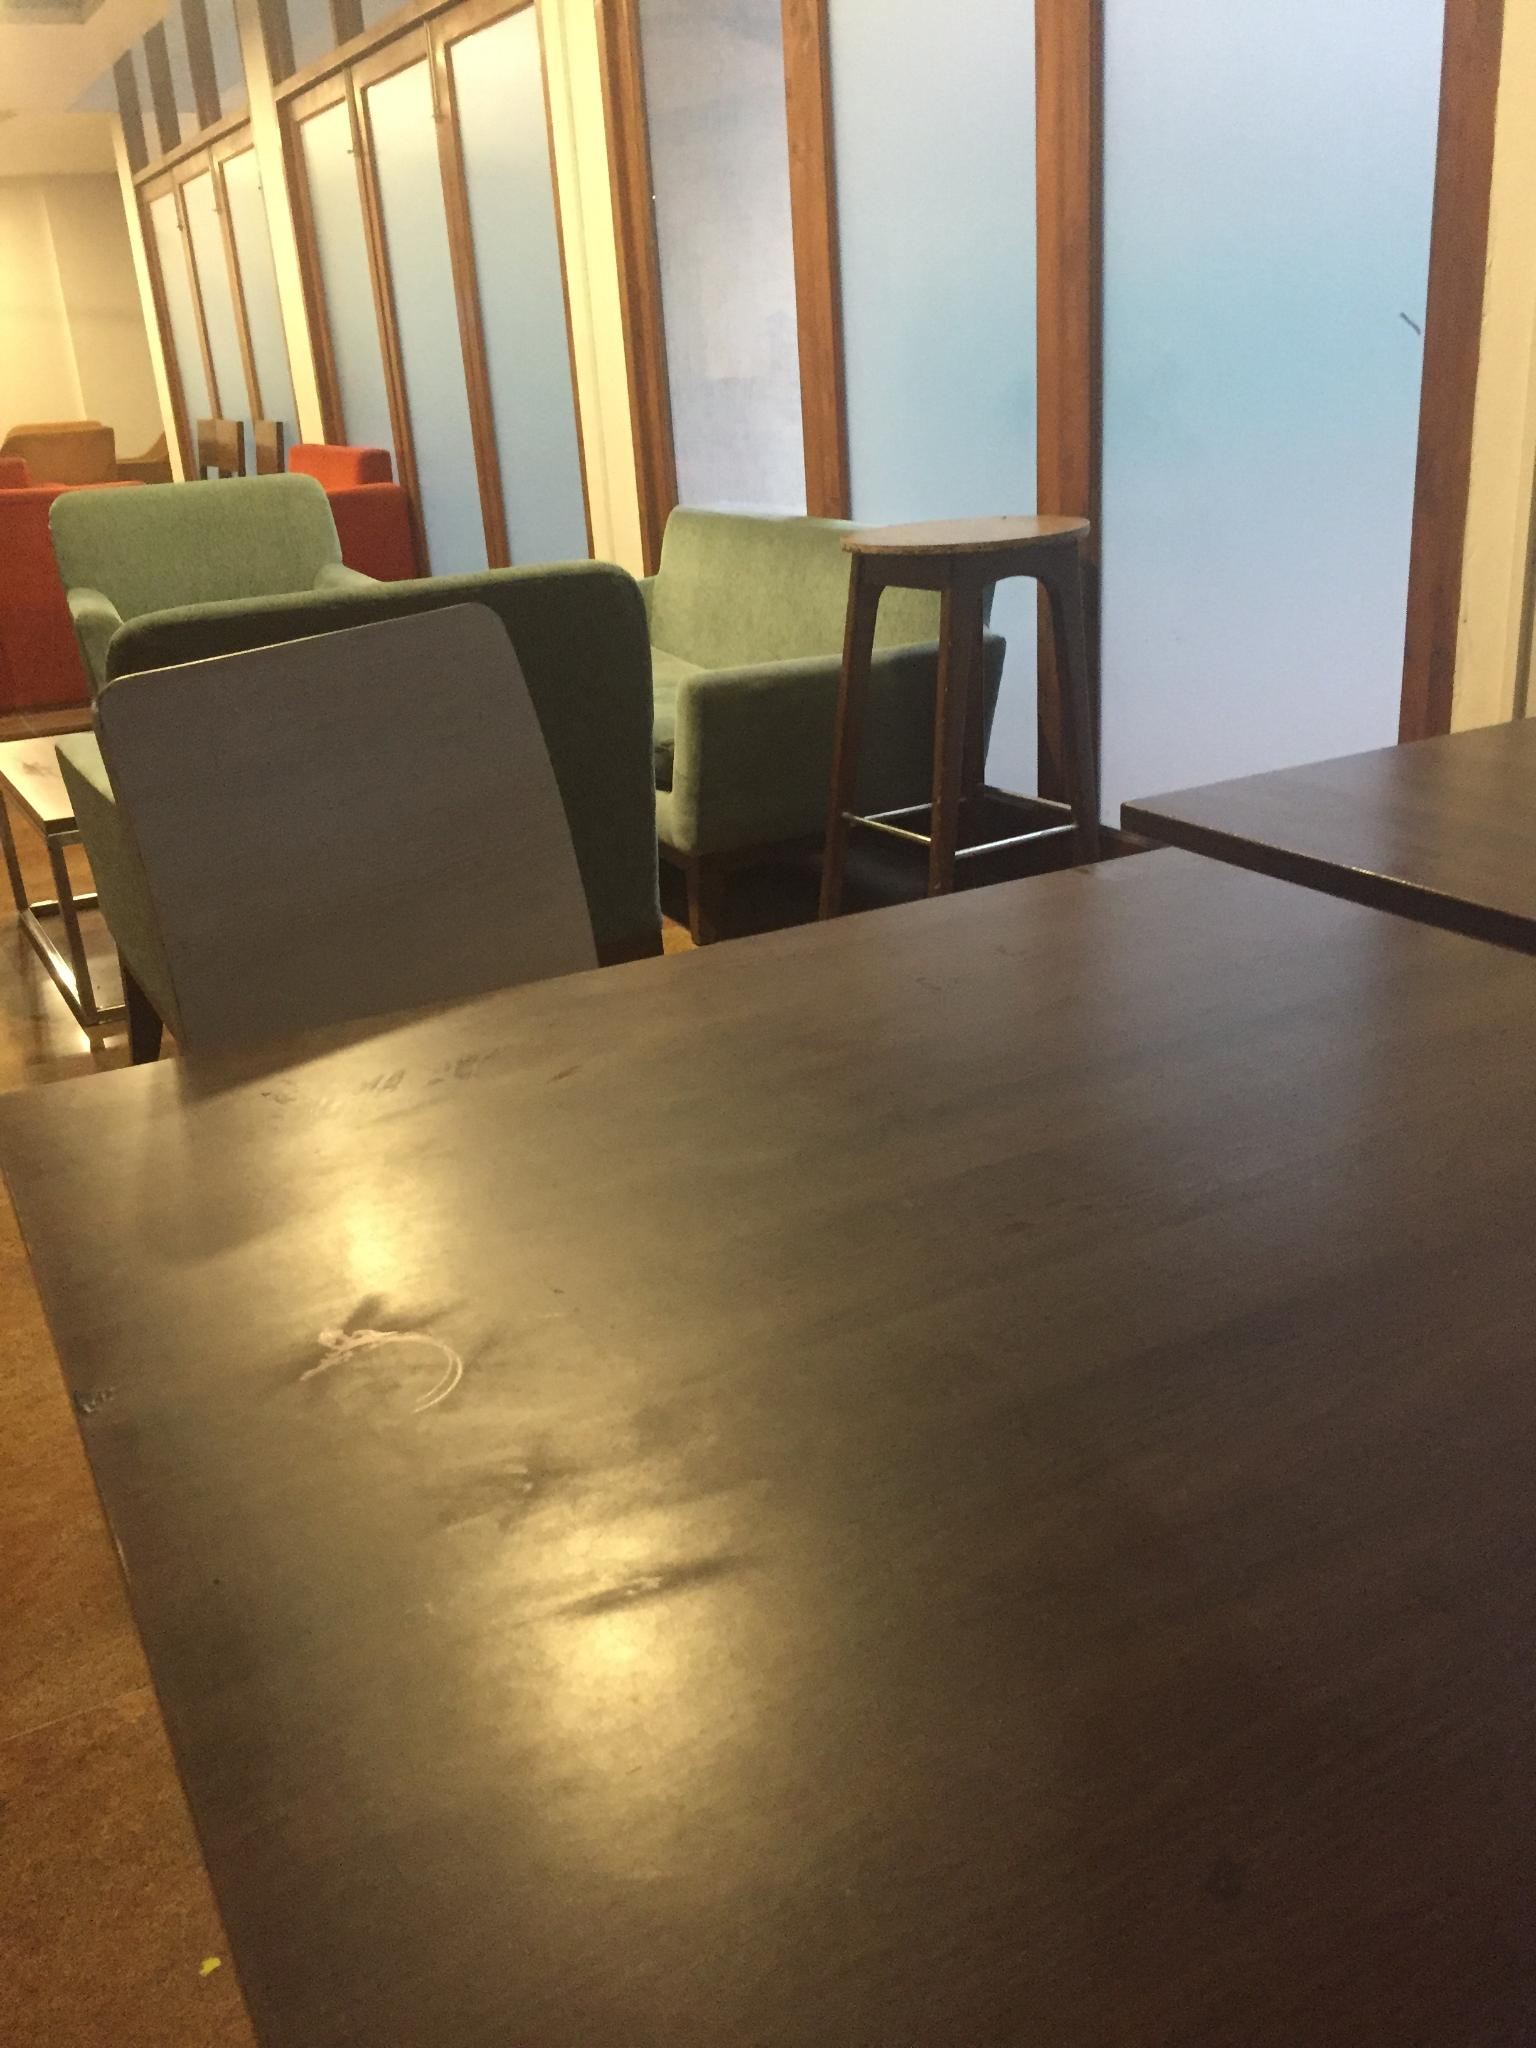chair: (52, 493, 671, 1013), (92, 676, 623, 1103), (637, 505, 1007, 945), (302, 434, 418, 616), (0, 371, 139, 490)
